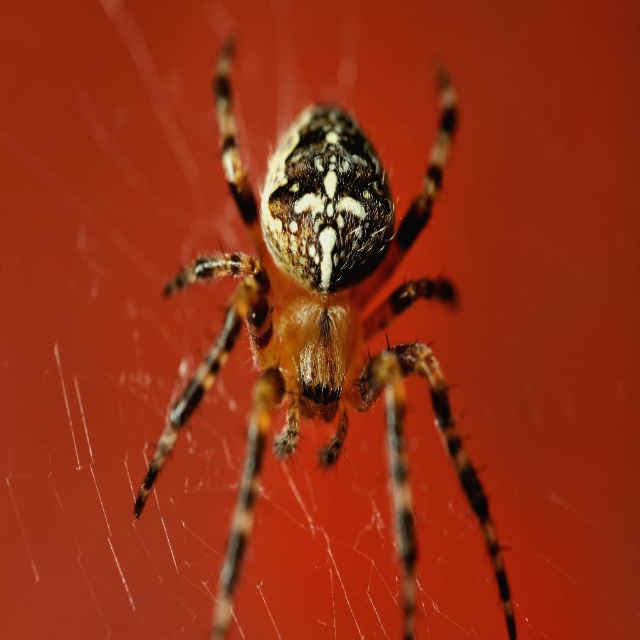Spider: (132, 30, 517, 640)
